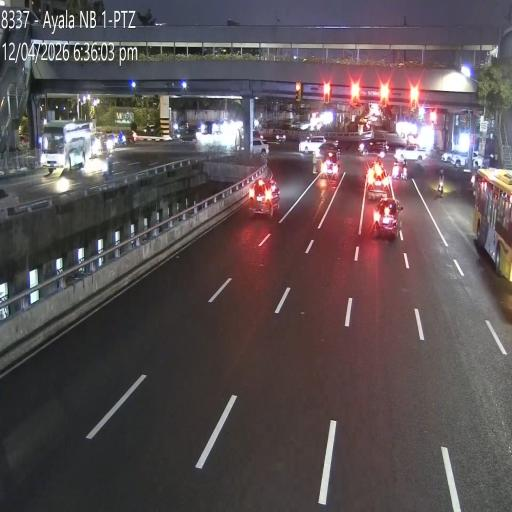Car: (248, 177, 280, 218), (378, 196, 401, 236), (368, 166, 389, 198), (394, 142, 427, 162), (322, 148, 340, 179), (299, 135, 326, 154), (358, 140, 389, 156), (177, 123, 199, 142), (252, 131, 268, 155)
Motor: (437, 169, 445, 196), (402, 157, 408, 180), (393, 157, 399, 180)
Not Accident: (370, 162, 400, 238)
